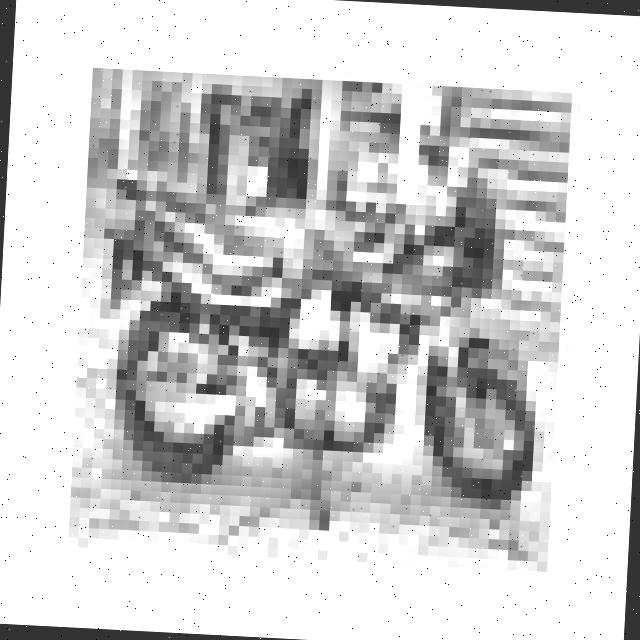mopeds: (91, 129, 563, 526)
